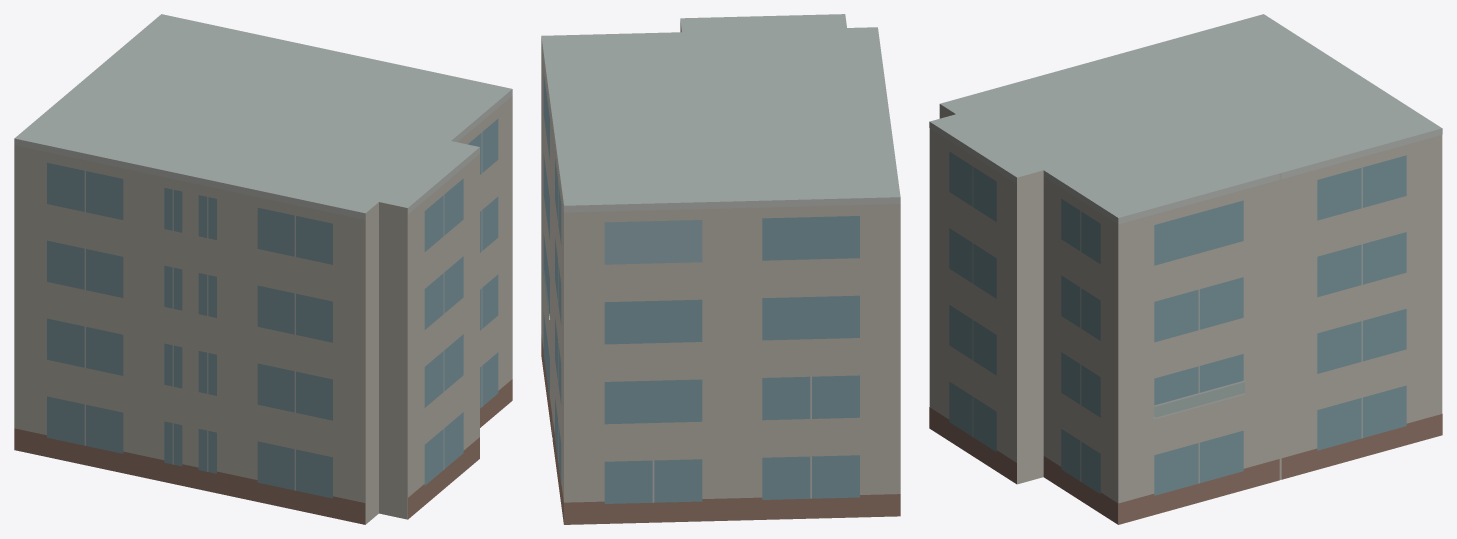
The model's file is survey-upis-32860514.glb.
3 renders of one model, left to right at view 1: azimuth 30°, elevation 25°; view 2: azimuth 150°, elevation 25°; view 3: azimuth 270°, elevation 25°, orthographic. The views are drawn at different scales.
Parts seen in each view (by area): view 1: survey-upis-32860514.tmp; view 2: survey-upis-32860514.tmp; view 3: survey-upis-32860514.tmp.
Boxes of the visible parts, x1=… form: survey-upis-32860514.tmp: x1=14, y1=14, x2=512, y2=524; survey-upis-32860514.tmp: x1=541, y1=14, x2=900, y2=524; survey-upis-32860514.tmp: x1=929, y1=14, x2=1442, y2=524.
Size of the model in its own units: 16.55 by 11.6 by 17.59.
